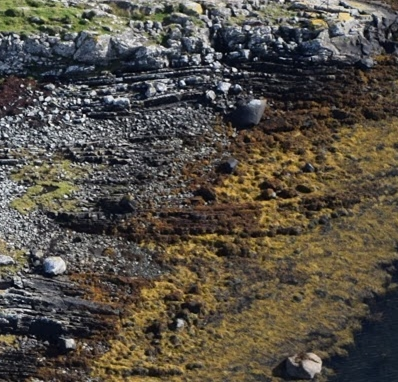white_in_green: (209, 75, 286, 148)
